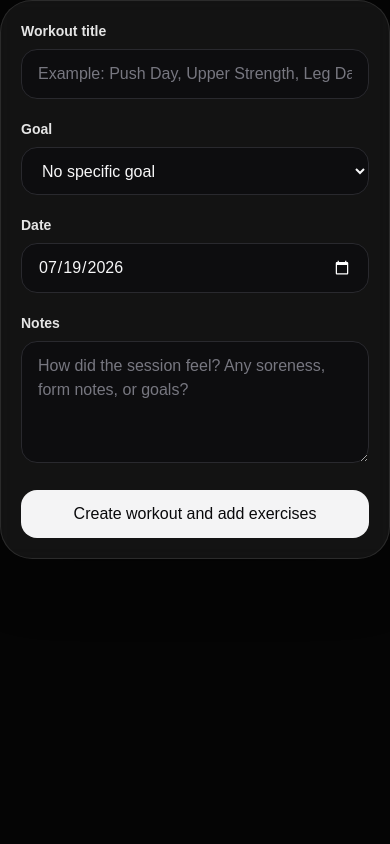
NewWorkoutForm › preserves the field contract and entered values after failure
In the field labelled "Workout title": (195, 74) top-left (21, 49), bottom-right (369, 99), type "Upper Strength"
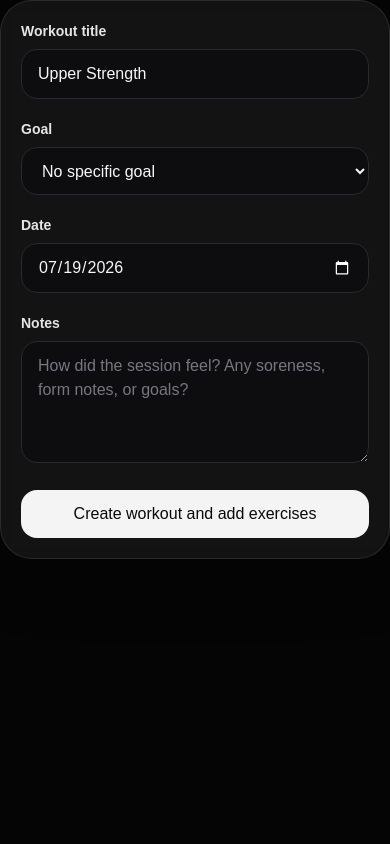
Select "Strength" in the dropdown labelled "Goal": (195, 171) top-left (21, 147), bottom-right (369, 195)
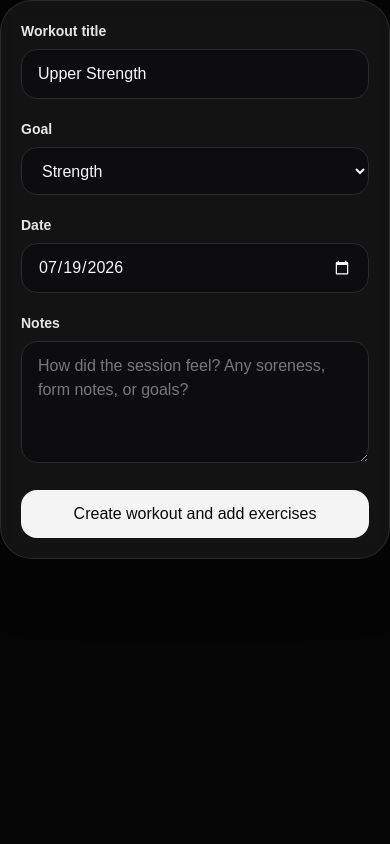
In the date field labelled "Date": (195, 268) top-left (21, 243), bottom-right (369, 293), type "2026-07-18"
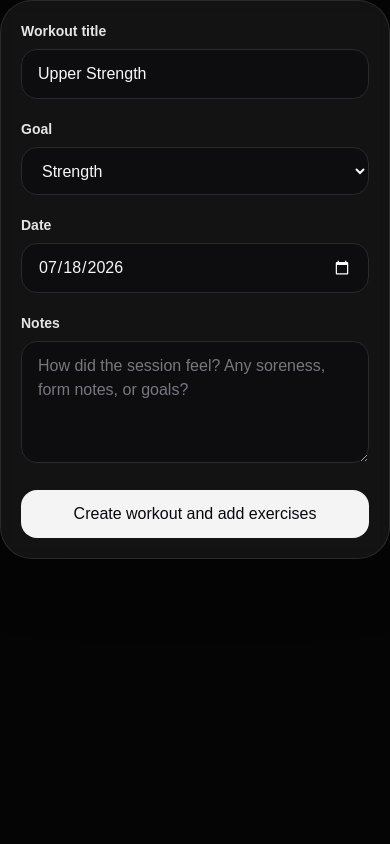
Replace the text in the text box labelled "Notes" with "Heavy compounds": (195, 402) top-left (21, 341), bottom-right (369, 463)
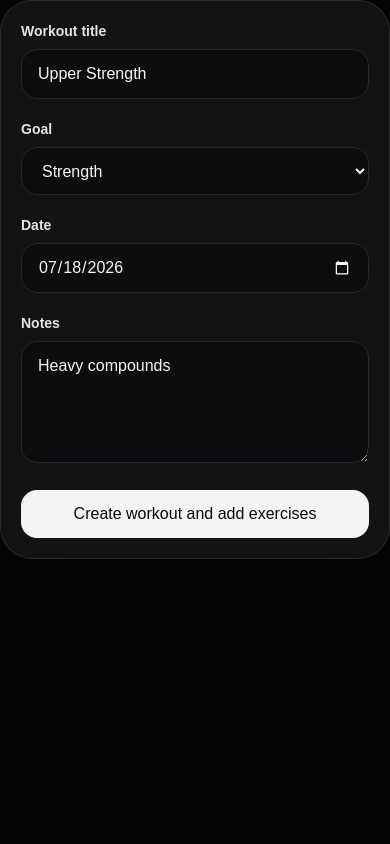
Click the button "Create workout and add exercises": (195, 514) top-left (21, 490), bottom-right (369, 538)
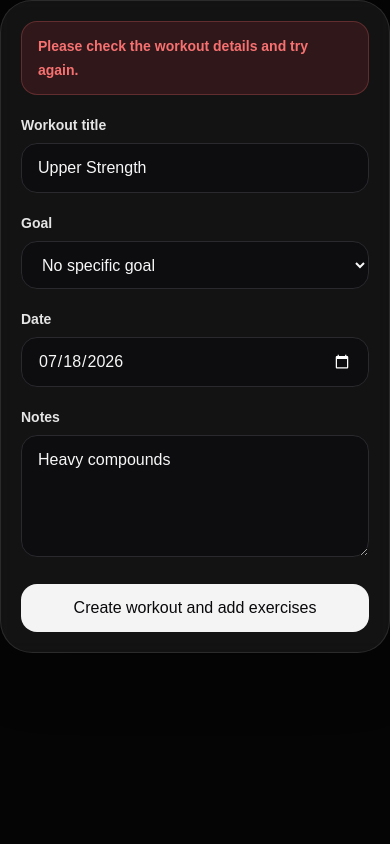
Check: the message reads "Please check the workout details and try again.", box top-left (38, 38), bottom-right (308, 78)
